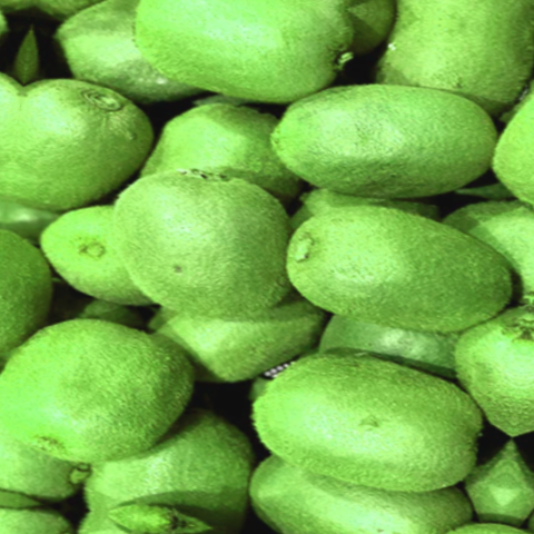kiwi: (237, 333, 507, 508), (93, 127, 317, 334), (252, 43, 499, 230), (267, 187, 534, 349), (0, 299, 217, 490), (114, 0, 349, 124)
